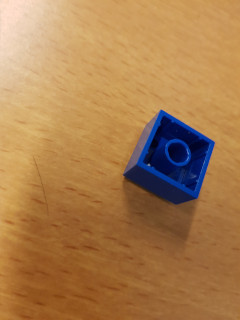2x2 blue: (121, 108, 215, 207)
